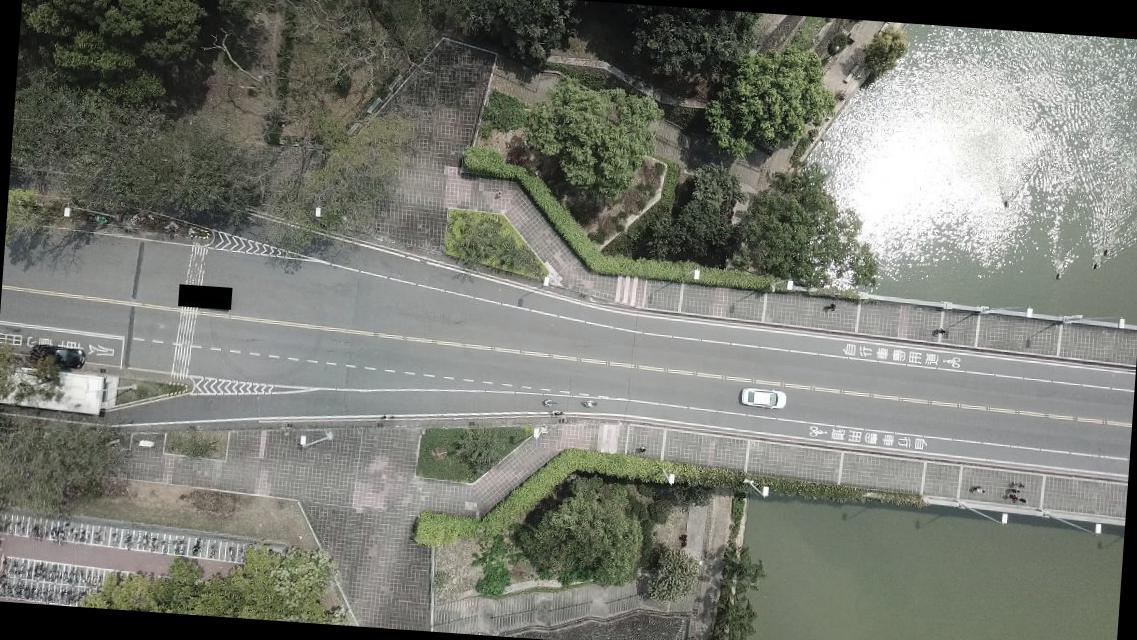vehicle: (28, 342, 84, 370), (738, 385, 785, 409)
